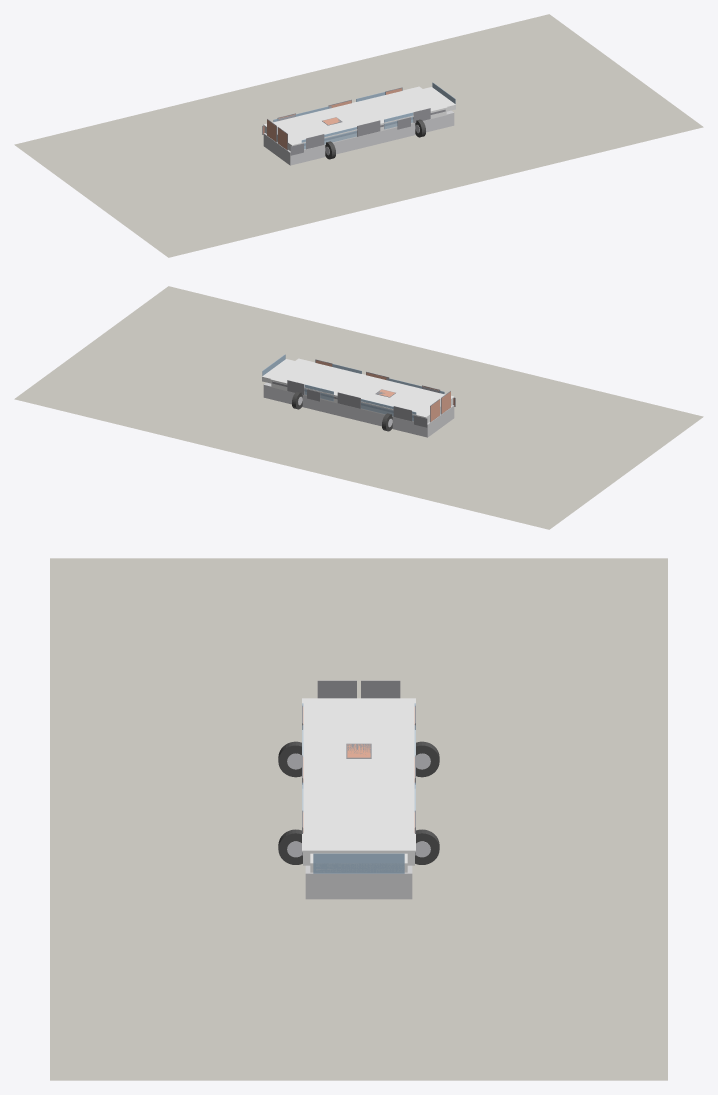
The model's file is c2-tourer.glb.
3 views of the same model, one above another, from view 1: azimuth 30°, elevation 25°; view 2: azimuth 150°, elevation 25°; view 3: azimuth 270°, elevation 25° (orthographic). The views are drawn at different scales.
Visible parts, largest first — view 1: ground, roof, chassis, body_main; view 2: ground, roof, chassis, body_main; view 3: ground, roof, chassis, windshield.
Part boxes in pixels (left/top/right/bottom): ground: left=14, top=14, right=703, bottom=257; roof: left=263, top=86, right=447, bottom=145; chassis: left=263, top=110, right=454, bottom=165; body_main: left=264, top=108, right=446, bottom=150; ground: left=14, top=286, right=703, bottom=529; roof: left=270, top=358, right=454, bottom=417; chassis: left=263, top=382, right=454, bottom=437; body_main: left=271, top=380, right=453, bottom=422; ground: left=50, top=558, right=667, bottom=1080; roof: left=302, top=698, right=415, bottom=852; chassis: left=305, top=865, right=412, bottom=899; windshield: left=313, top=853, right=404, bottom=873.
Bounding box in the file's own units: 24 × 1.26 × 12.
